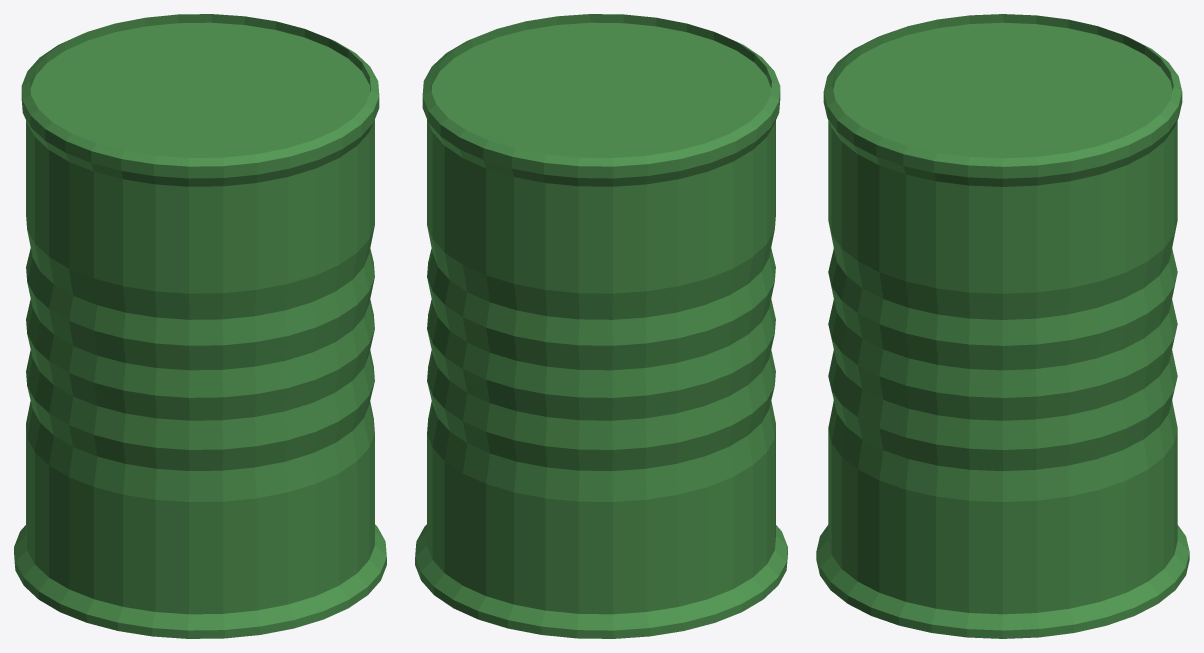
The model's file is LowPolyCan.fbx.
3 renders of one model, left to right at view 1: azimuth 30°, elevation 25°; view 2: azimuth 150°, elevation 25°; view 3: azimuth 270°, elevation 25°, orthographic.
Visible parts, largest first — view 1: Tin Can; view 2: Tin Can; view 3: Tin Can.
Boxes of the visible parts, bbox=[...] form: Tin Can: bbox=[14, 14, 386, 638]; Tin Can: bbox=[415, 14, 787, 638]; Tin Can: bbox=[816, 14, 1189, 638].
Bounding box in the file's own units: 30.05 × 42.09 × 30.05.
